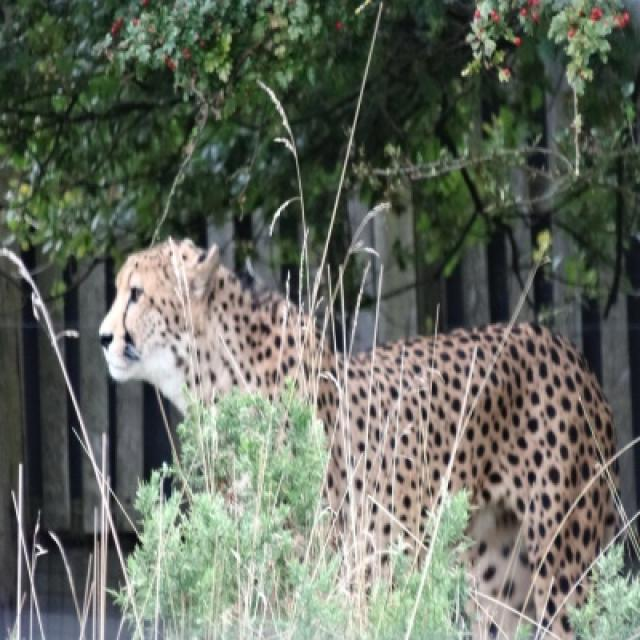Cheetah: (98, 240, 630, 638)
